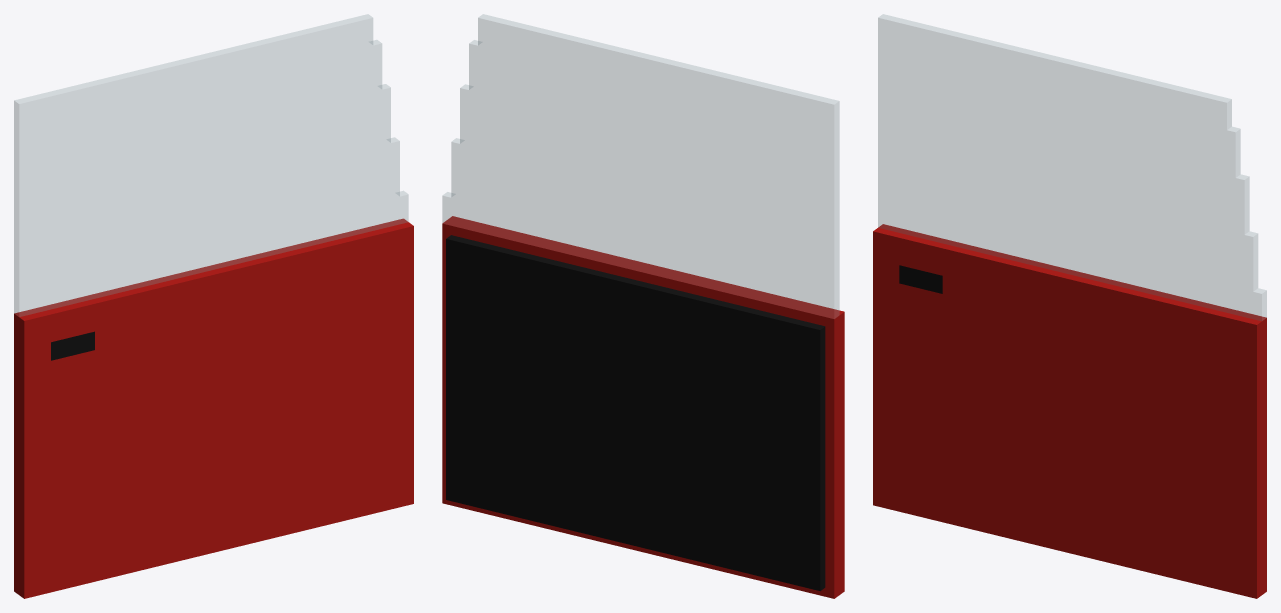
File: fire_engine_door.glb
The picture shows the model from 3 angles, left to right: view 1: azimuth 30°, elevation 25°; view 2: azimuth 150°, elevation 25°; view 3: azimuth 330°, elevation 25°; orthographic projection. The views are drawn at different scales.
Visible parts, largest first — view 1: body:compound; view 2: body:compound; view 3: body:compound.
Boxes of the visible parts, <box> form: body:compound: <box>14,14,413,598</box>; body:compound: <box>442,14,844,598</box>; body:compound: <box>873,14,1266,598</box>.
Size of the model in its own units: 1.38 by 1.66 by 0.0938.
